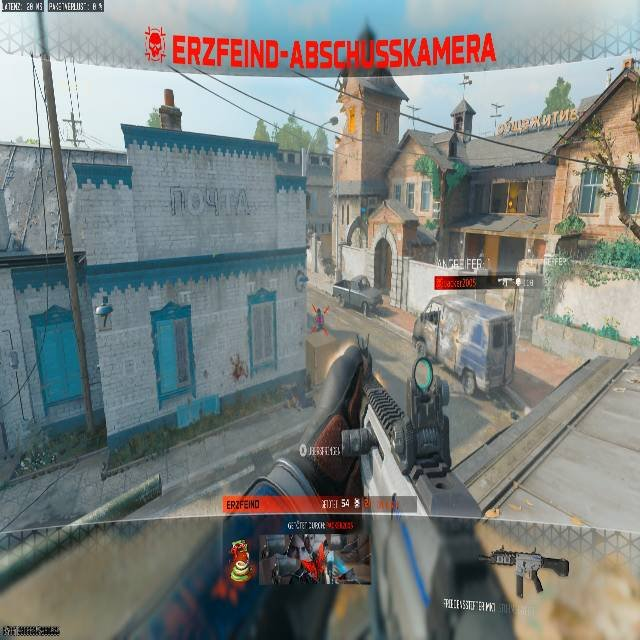player: (311, 304, 327, 334)
